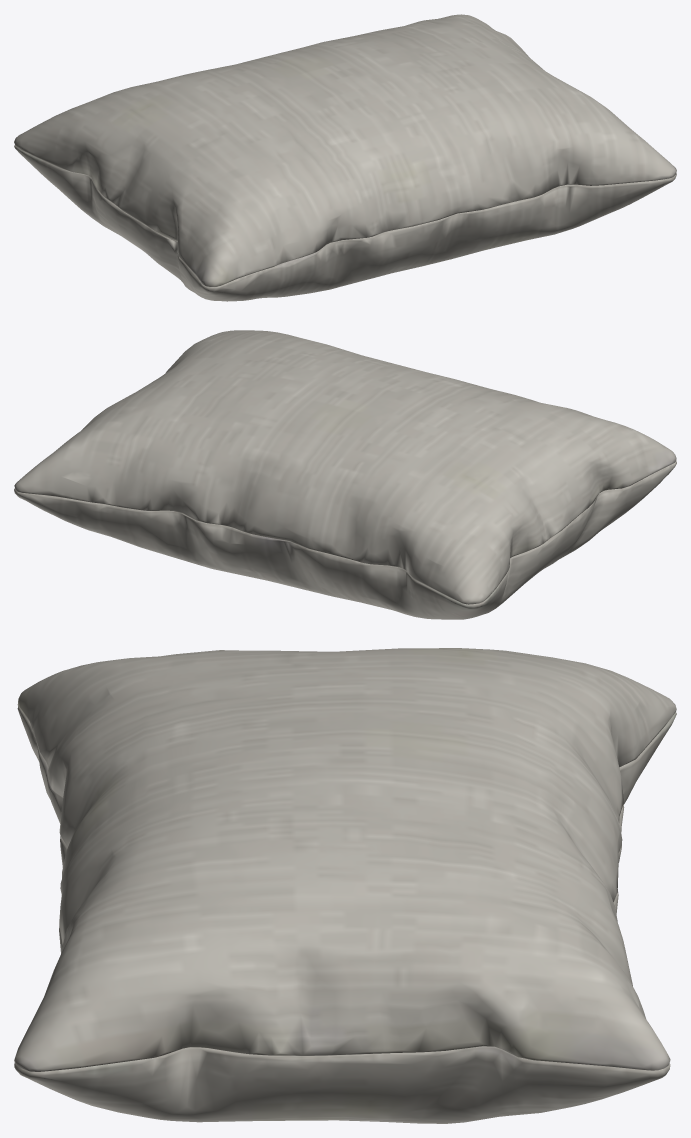
The model's file is ropa_couch_pillow.glb.
3 renders of one model, top to bottom at view 1: azimuth 30°, elevation 25°; view 2: azimuth 150°, elevation 25°; view 3: azimuth 270°, elevation 25°, orthographic. The views are drawn at different scales.
Parts seen in each view (by area): view 1: defaultMaterial; view 2: defaultMaterial; view 3: defaultMaterial.
Boxes of the visible parts, x1=… form: defaultMaterial: x1=14, y1=14, x2=676, y2=301; defaultMaterial: x1=14, y1=330, x2=676, y2=619; defaultMaterial: x1=14, y1=648, x2=676, y2=1123.
Bounding box in the file's own units: 0.4499 × 0.1582 × 0.3364.
1 material, 1 textured.
